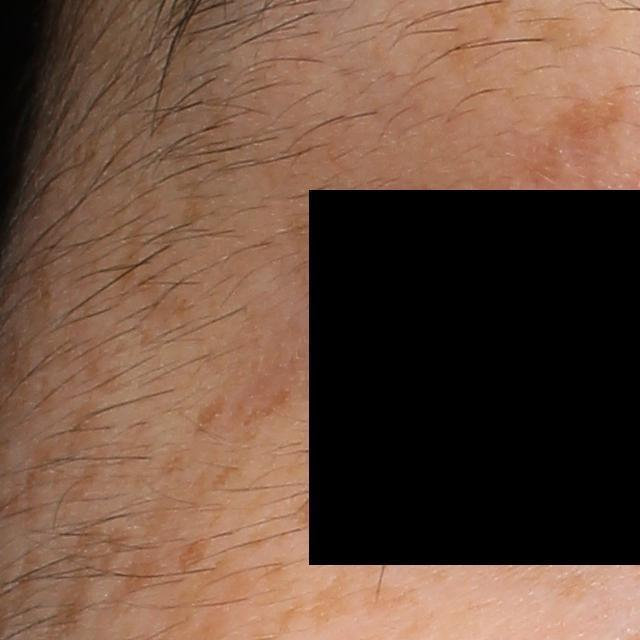melasma: (334, 526, 432, 617), (489, 536, 596, 600), (279, 479, 398, 532), (274, 566, 354, 639), (546, 81, 631, 141), (533, 12, 613, 53), (243, 384, 294, 431), (123, 547, 168, 596), (191, 390, 230, 441), (178, 537, 214, 576)
